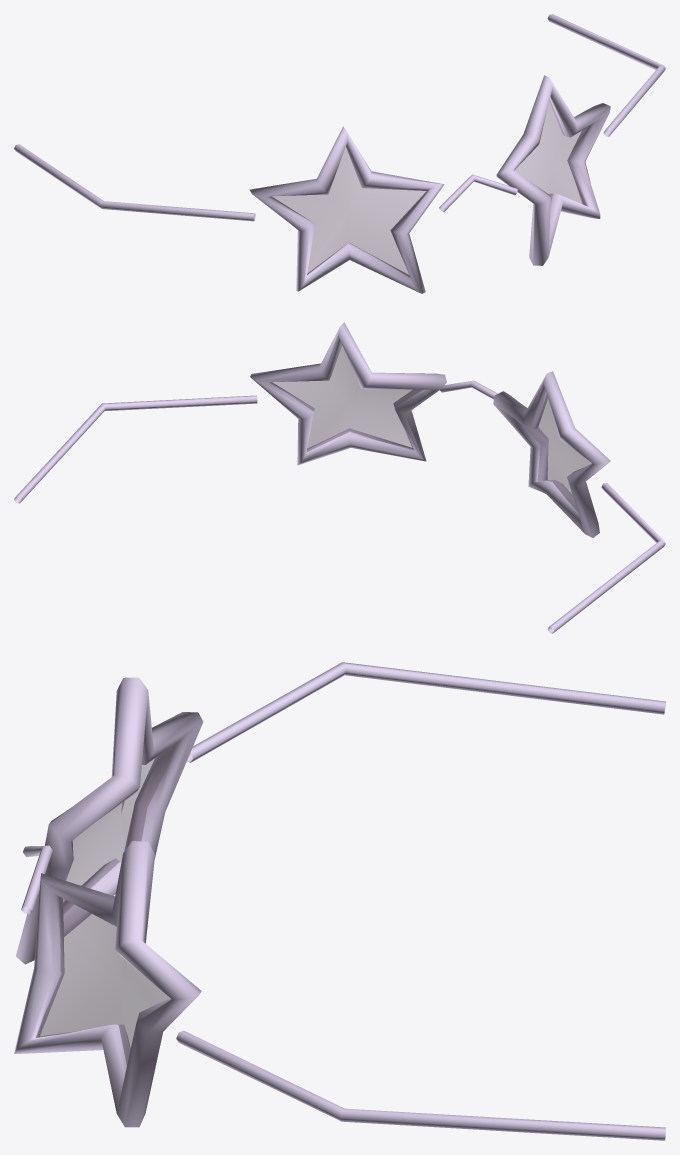
Rendered from glasses_star_bear_tailored.glb.
3 renders of one model, top to bottom at view 1: azimuth 30°, elevation 25°; view 2: azimuth 150°, elevation 25°; view 3: azimuth 270°, elevation 25°, orthographic. The views are drawn at different scales.
Parts seen in each view (by area): view 1: Montura.010, Lente ahumada.006, Montura.011, Lente ahumada.007, Patilla curva.010, Patilla curva.011, Puente nasal.005; view 2: Montura.011, Montura.010, Lente ahumada.007, Lente ahumada.006, Patilla curva.011, Patilla curva.010; view 3: Montura.011, Montura.010, Lente ahumada.007, Patilla curva.011, Patilla curva.010, Lente ahumada.006, Puente nasal.005.
Boxes of the visible parts, left/top/right/bottom form: Montura.010: left=249, top=126, right=444, bottom=293; Lente ahumada.006: left=271, top=147, right=426, bottom=276; Montura.011: left=496, top=75, right=610, bottom=265; Lente ahumada.007: left=514, top=100, right=588, bottom=205; Patilla curva.010: left=14, top=144, right=255, bottom=221; Patilla curva.011: left=547, top=14, right=665, bottom=136; Puente nasal.005: left=439, top=174, right=517, bottom=212; Montura.011: left=250, top=322, right=446, bottom=465; Montura.010: left=493, top=371, right=610, bottom=537; Lente ahumada.007: left=269, top=343, right=422, bottom=452; Lente ahumada.006: left=523, top=394, right=591, bottom=511; Patilla curva.011: left=14, top=395, right=257, bottom=503; Patilla curva.010: left=547, top=483, right=665, bottom=633; Montura.011: left=14, top=841, right=201, bottom=1127; Montura.010: left=16, top=677, right=203, bottom=964; Lente ahumada.007: left=36, top=896, right=169, bottom=1064; Patilla curva.011: left=176, top=1030, right=665, bottom=1140; Patilla curva.010: left=187, top=662, right=665, bottom=762; Lente ahumada.006: left=63, top=740, right=179, bottom=913; Puente nasal.005: left=21, top=845, right=52, bottom=914.
Size of the model in its own units: 0.7972 by 0.2065 by 0.4863.
